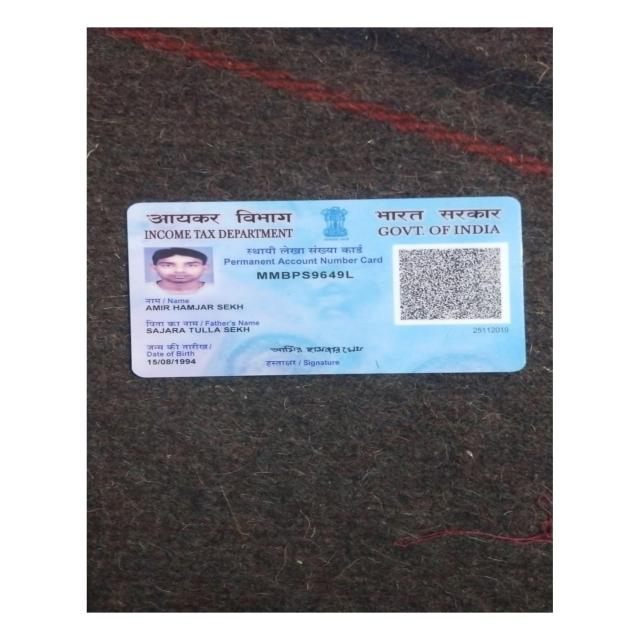pan_card: (130, 202, 521, 377)
